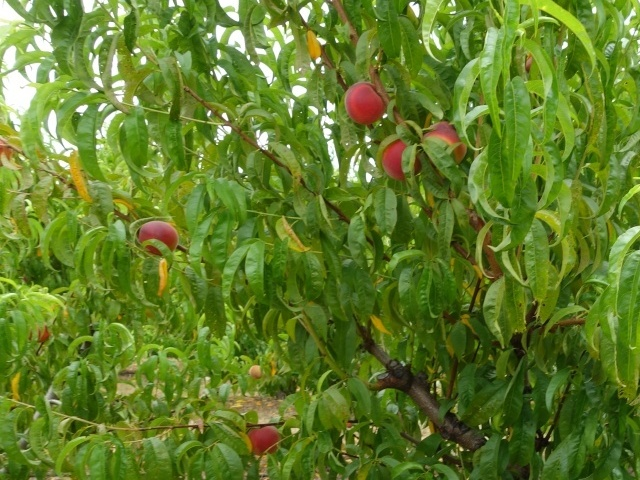peach: (340, 79, 393, 130), (375, 136, 424, 184), (129, 218, 182, 262), (422, 118, 470, 165), (242, 421, 282, 458), (24, 324, 52, 348), (245, 360, 264, 382)
